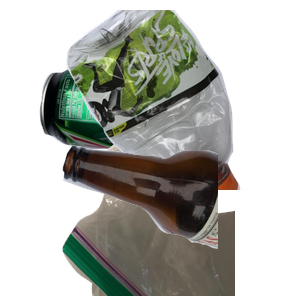glass: (60, 142, 300, 300)
metal: (37, 64, 245, 214)
plastic: (64, 10, 300, 190)
trash: (60, 120, 300, 300)
